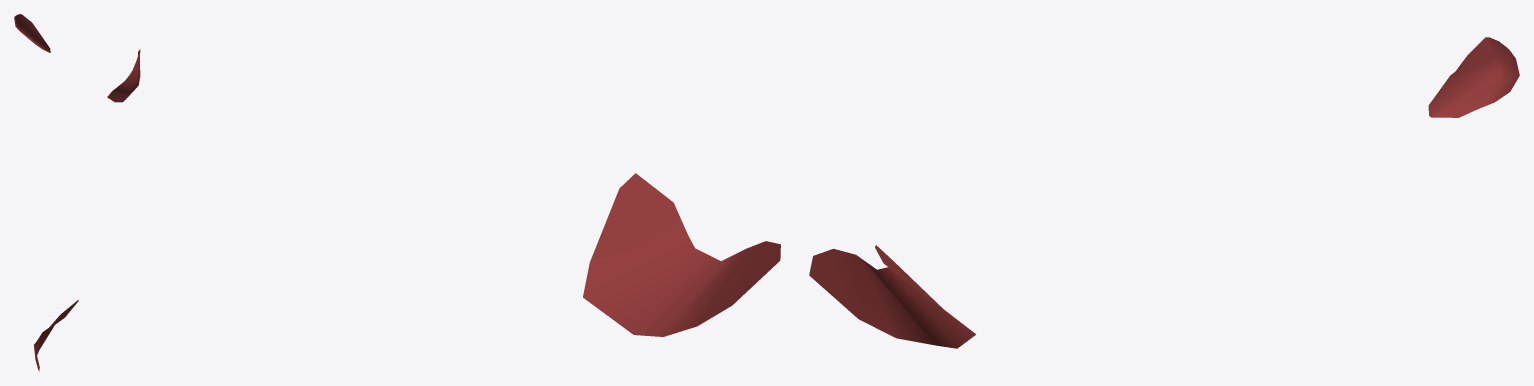
Rendered from levator-ani-ol.glb.
The picture shows the model from 3 angles, left to right: view 1: azimuth 30°, elevation 25°; view 2: azimuth 150°, elevation 25°; view 3: azimuth 270°, elevation 25°; orthographic projection. The views are drawn at different scales.
Parts seen in each view (by area): view 1: Levator ani.ol; view 2: Levator ani.ol; view 3: Levator ani.ol.
Boxes of the visible parts, bbox=[...] form: Levator ani.ol: bbox=[14, 14, 78, 371]; Levator ani.ol: bbox=[107, 49, 780, 336]; Levator ani.ol: bbox=[809, 37, 1519, 348].
Bounding box in the file's own units: 0.0399 × 0.0489 × 0.0734.
